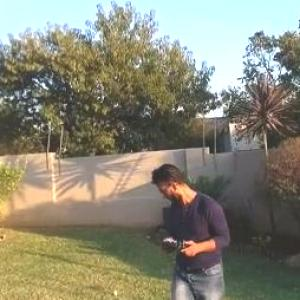follow: (149, 159, 235, 299)
